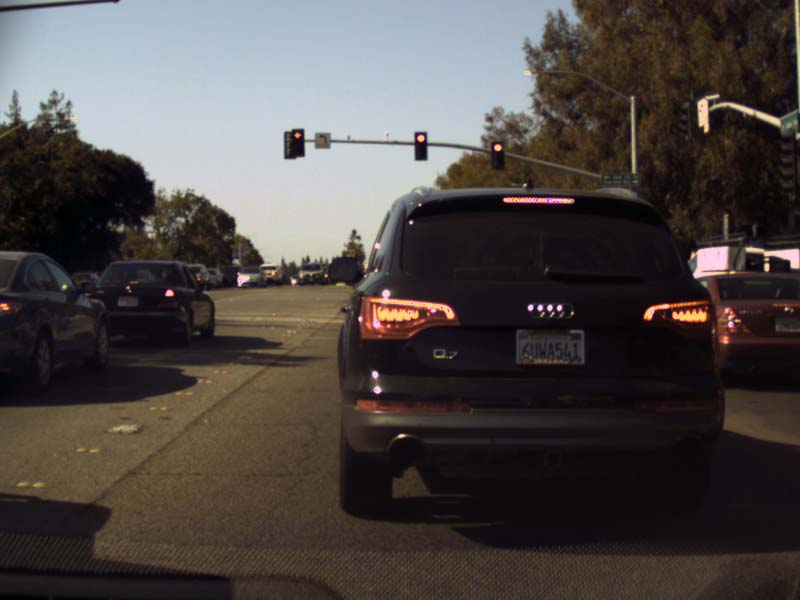Red: (490, 141, 505, 170), (414, 130, 427, 161), (291, 129, 303, 158)
